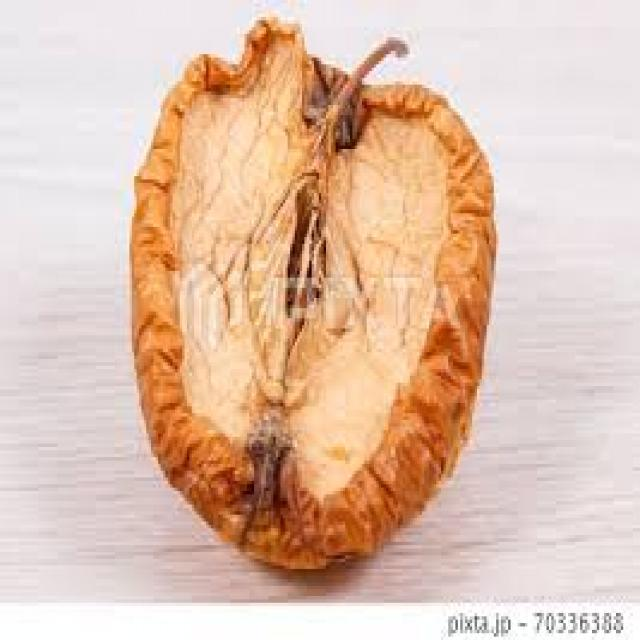organic waste: (127, 13, 491, 569)
